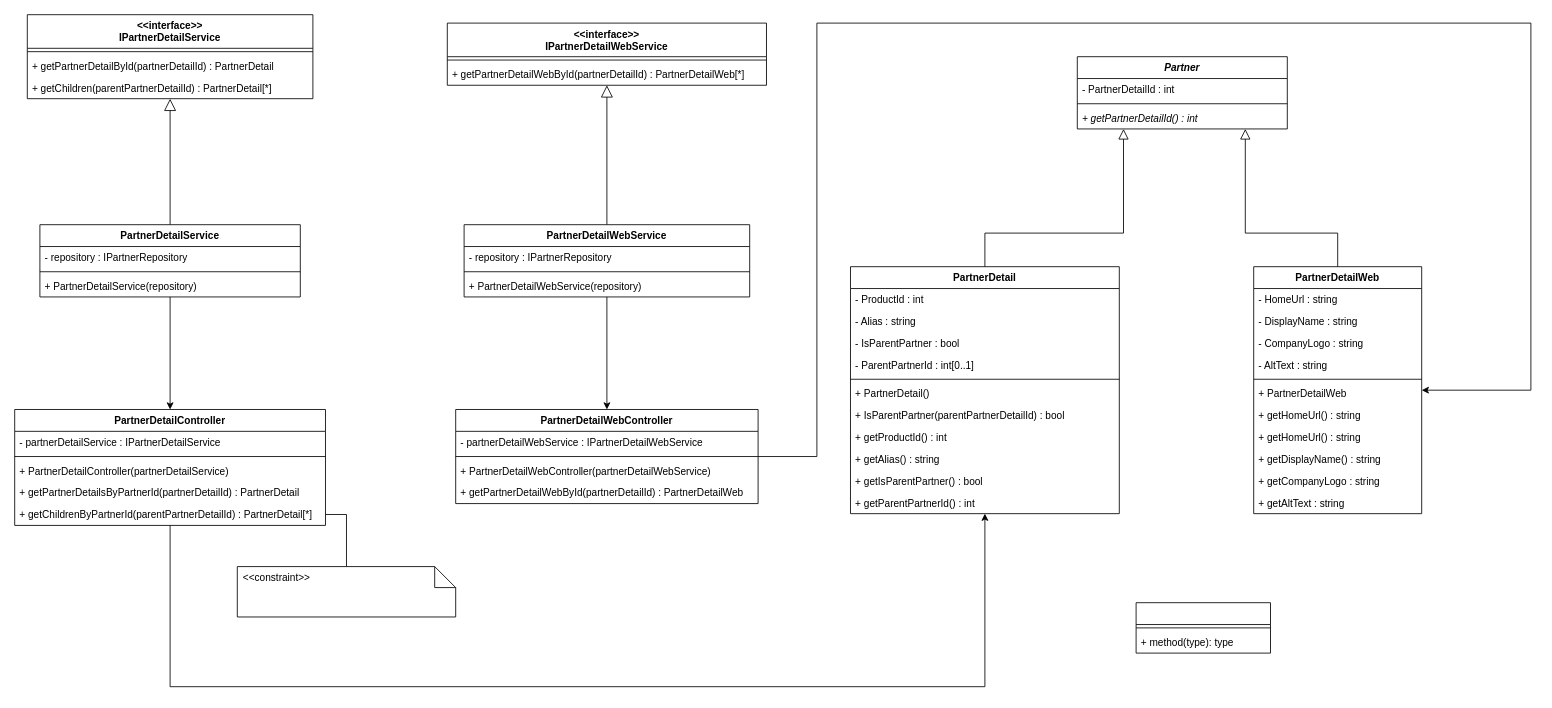
Some shapes in this 1552 by 708 pixel diagram are drawn without their labels. The box of each missing label's shape, as (x1, y1, x2, y2) in pixels:
IPartnerRepository: (1135, 602, 1270, 653)
{isParentPartner(IsParentPartner) = true}: (236, 566, 456, 617)
